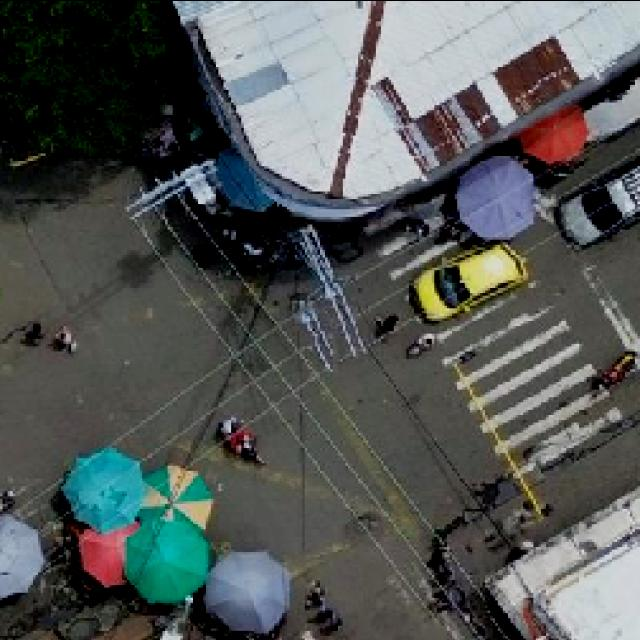vendedor_ambulante: (62, 444, 150, 536), (452, 154, 542, 242), (205, 546, 292, 630), (125, 518, 209, 600), (132, 463, 215, 535), (74, 513, 143, 593), (520, 99, 589, 169), (0, 516, 46, 600)
